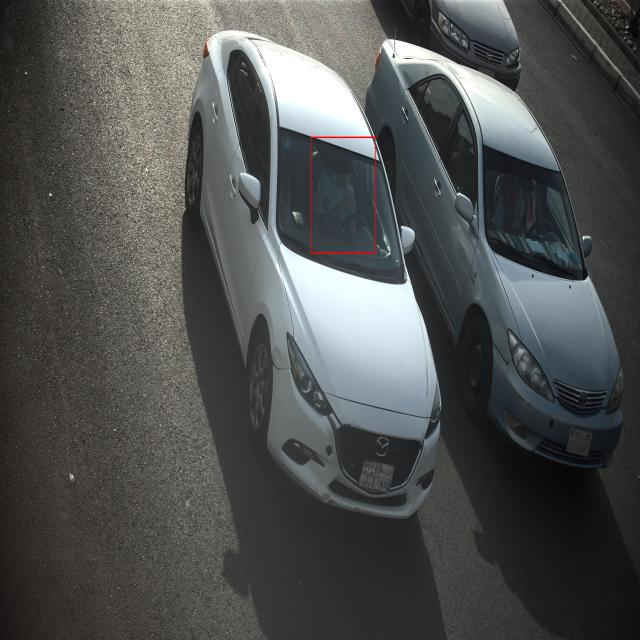windshield: (274, 131, 412, 289), (481, 141, 588, 283)
